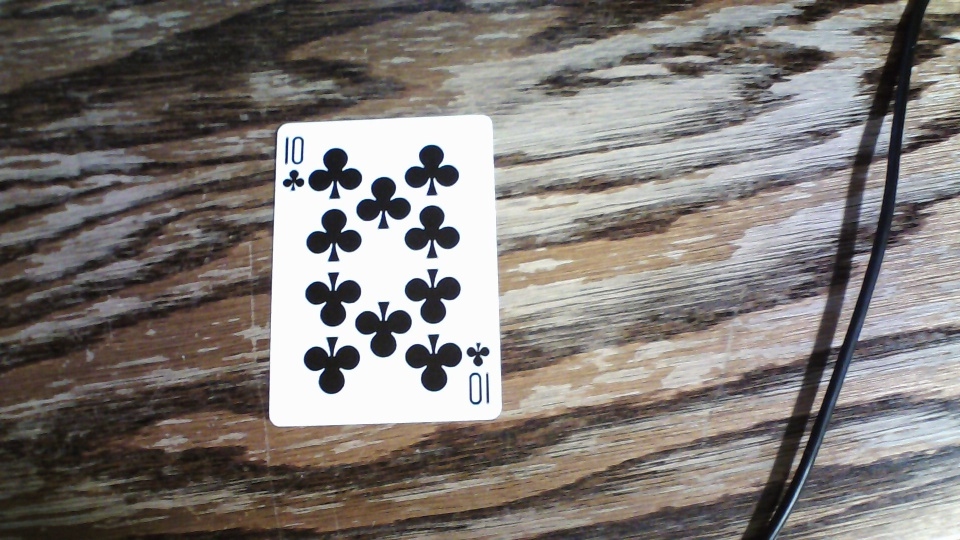ten: (268, 115, 502, 426)
